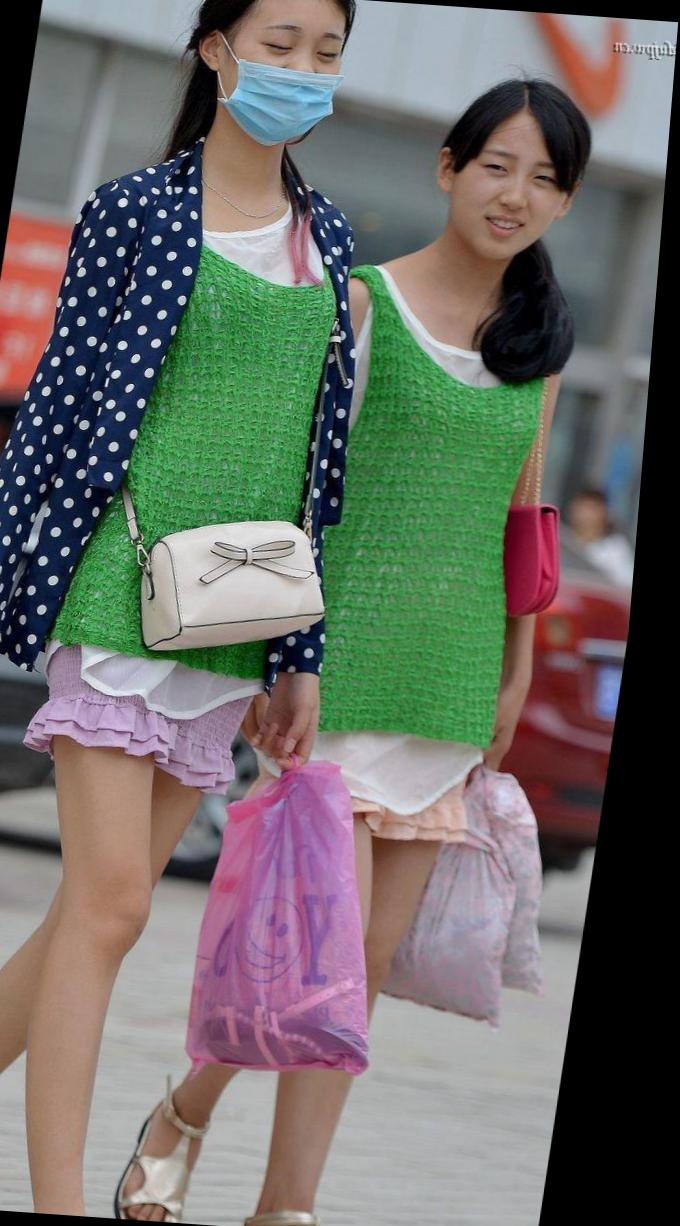NONE: (449, 129, 579, 260)
WRONG: (198, 4, 352, 149)
